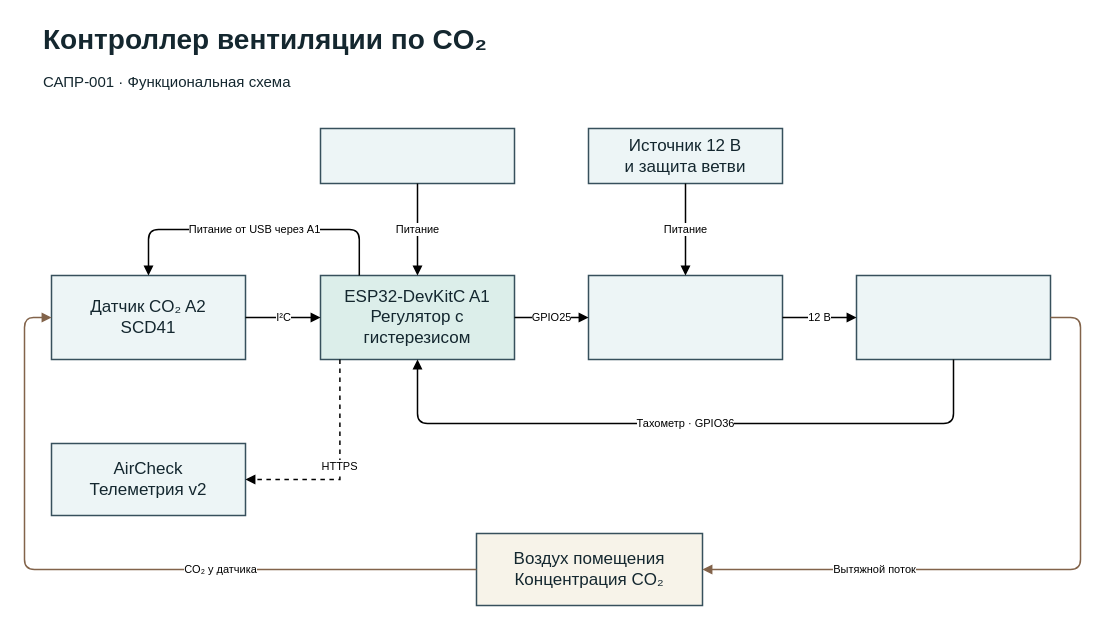
The diagram is 1107 pixels wide and 623 high, and some of its shapes have lost their labels. Here are the shapes that lost their labels. From the top down, the centre of each, then its label:
the point at 417,155: USB-источник 5 В
the point at 685,317: Силовой ключ A3 Pololu №2811 SV
the point at 953,317: Вытяжной вентилятор M1 Noctua NF-A8 FLX
